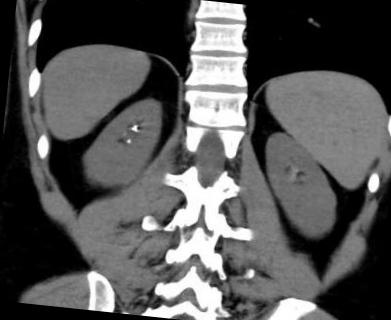Tas_Var: (128, 124, 138, 132), (125, 138, 132, 144)
